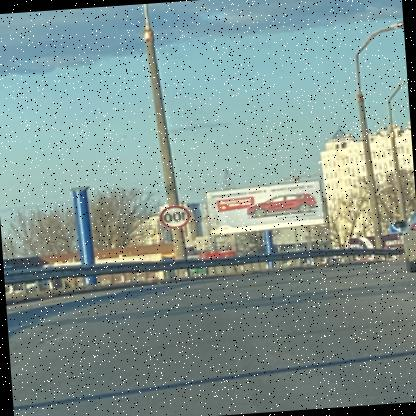speedlimit: (162, 201, 194, 226)
